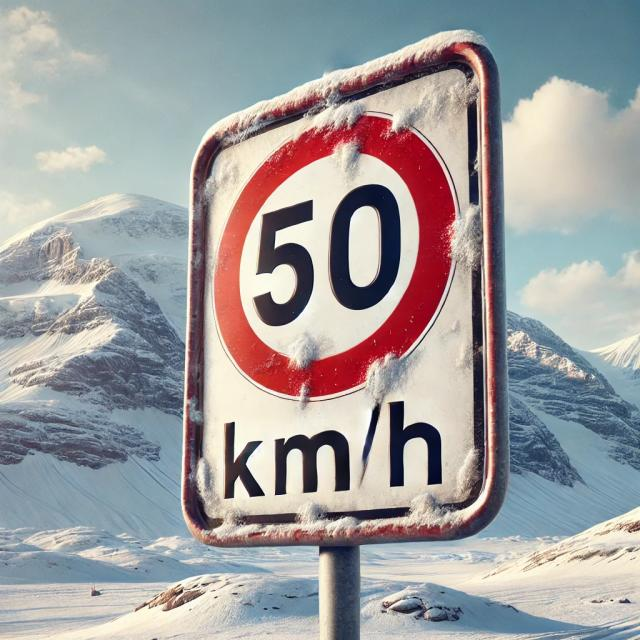Speed limit 50: (206, 108, 483, 410)
